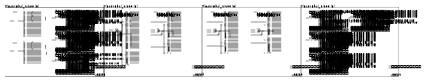room: (95, 10, 105, 13), (202, 10, 212, 13), (308, 10, 318, 13), (415, 10, 425, 13), (135, 66, 137, 72), (180, 66, 182, 72), (348, 46, 350, 52), (348, 15, 350, 21), (135, 72, 137, 77), (135, 61, 137, 66), (180, 72, 182, 77), (348, 41, 350, 46), (348, 21, 350, 26), (29, 66, 30, 72), (74, 66, 75, 72), (74, 46, 75, 52), (393, 66, 394, 72), (29, 72, 30, 77), (242, 72, 243, 77), (289, 72, 290, 77), (74, 72, 75, 77), (74, 21, 75, 26), (74, 41, 75, 46), (393, 72, 394, 77)
wall: (328, 30, 350, 52), (54, 56, 76, 78), (54, 5, 76, 27), (54, 30, 76, 52), (328, 5, 350, 27), (373, 56, 395, 78), (328, 56, 350, 78), (119, 53, 122, 56), (164, 53, 167, 56), (272, 53, 275, 56), (29, 33, 30, 41), (97, 1, 105, 2), (204, 1, 212, 2), (310, 1, 318, 2), (417, 1, 425, 2), (226, 53, 228, 56), (177, 29, 178, 30), (238, 29, 239, 30), (285, 29, 286, 30), (124, 50, 125, 50), (132, 15, 132, 16), (169, 50, 170, 50), (230, 50, 231, 50), (277, 50, 278, 50)
